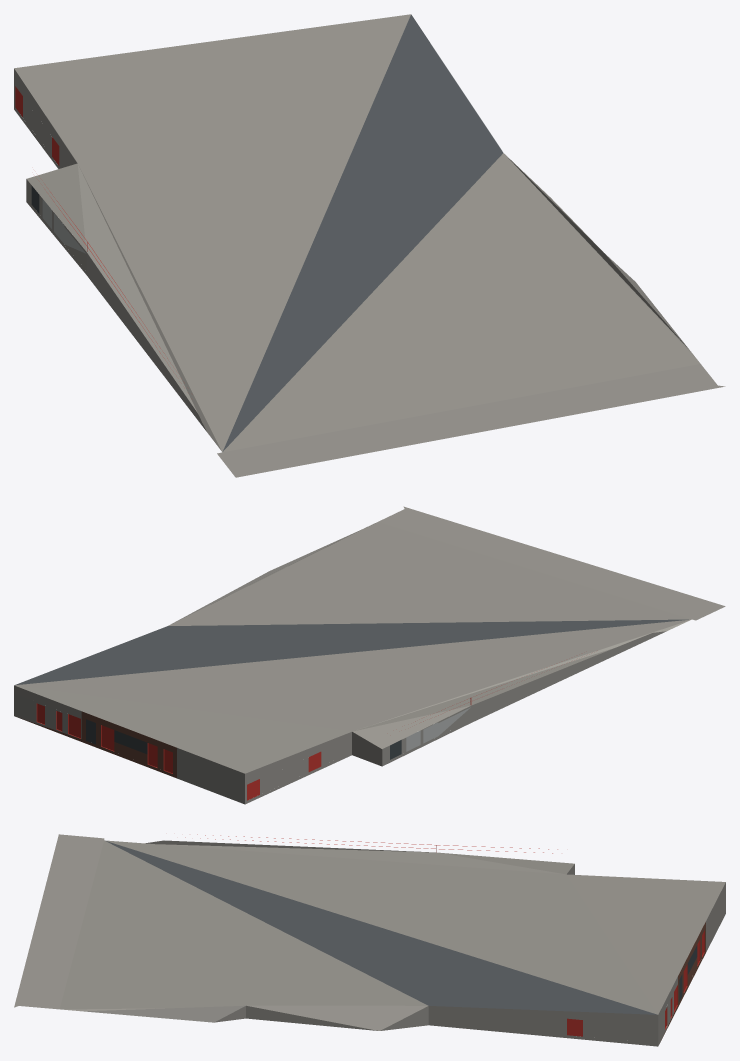
File: y-helling.lod2.glb
3 views of the same model, one above another, from view 1: azimuth 30°, elevation 25°; view 2: azimuth 150°, elevation 25°; view 3: azimuth 270°, elevation 25° (orthographic). The views are drawn at different scales.
Parts seen in each view (by area): view 1: lod2; view 2: lod2; view 3: lod2.
Boxes of the visible parts, box(x1,y1,x2,y2) form: lod2: box(14, 14, 725, 477); lod2: box(14, 506, 725, 804); lod2: box(14, 834, 725, 1046).
Bounding box in the file's own units: 65.55 × 4.57 × 92.93.
